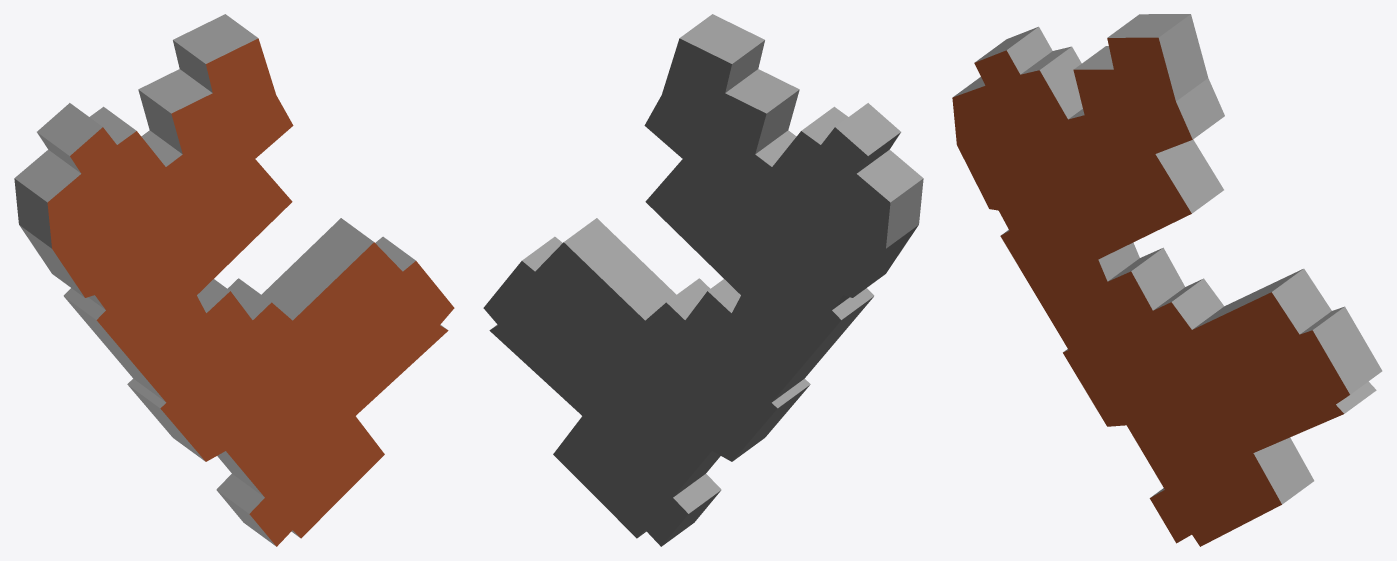
File: construction_7090_assumed_A_Casa_h6m.obj
The picture shows the model from 3 angles, left to right: view 1: azimuth 30°, elevation 25°; view 2: azimuth 150°, elevation 25°; view 3: azimuth 330°, elevation 25°; orthographic projection. The views are drawn at different scales.
Parts seen in each view (by area): view 1: construction_7090_assumed_A_Casa; view 2: construction_7090_assumed_A_Casa; view 3: construction_7090_assumed_A_Casa.
Boxes of the visible parts, box(x1,y1,x2,y2) form: construction_7090_assumed_A_Casa: box(14, 14, 454, 546); construction_7090_assumed_A_Casa: box(483, 14, 923, 546); construction_7090_assumed_A_Casa: box(952, 14, 1382, 546).
Bounding box in the file's own units: 42.56 × 51.26 × 6.
